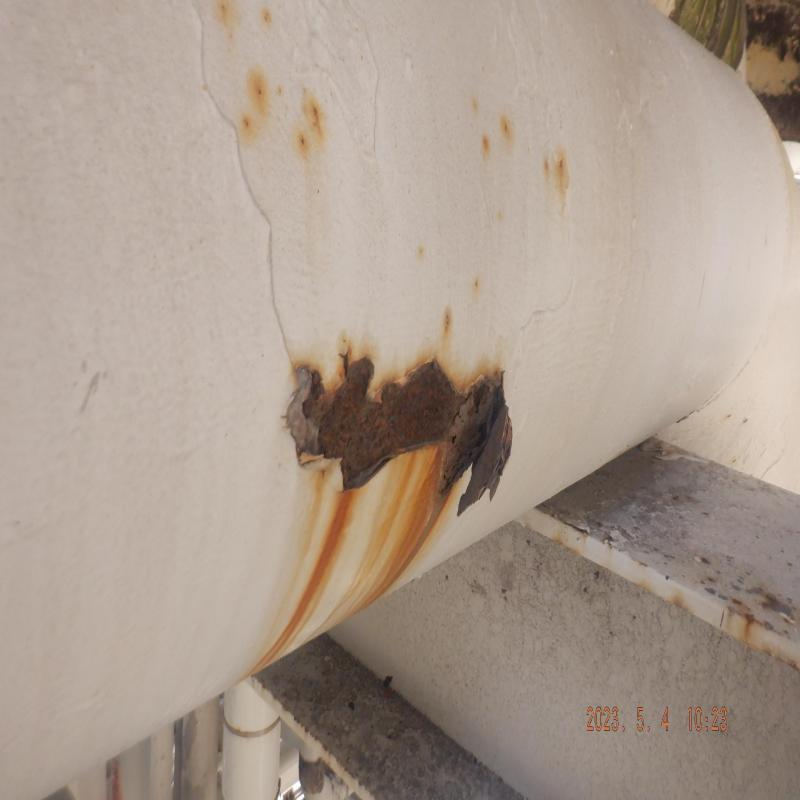corrosion: (302, 365, 505, 479)
